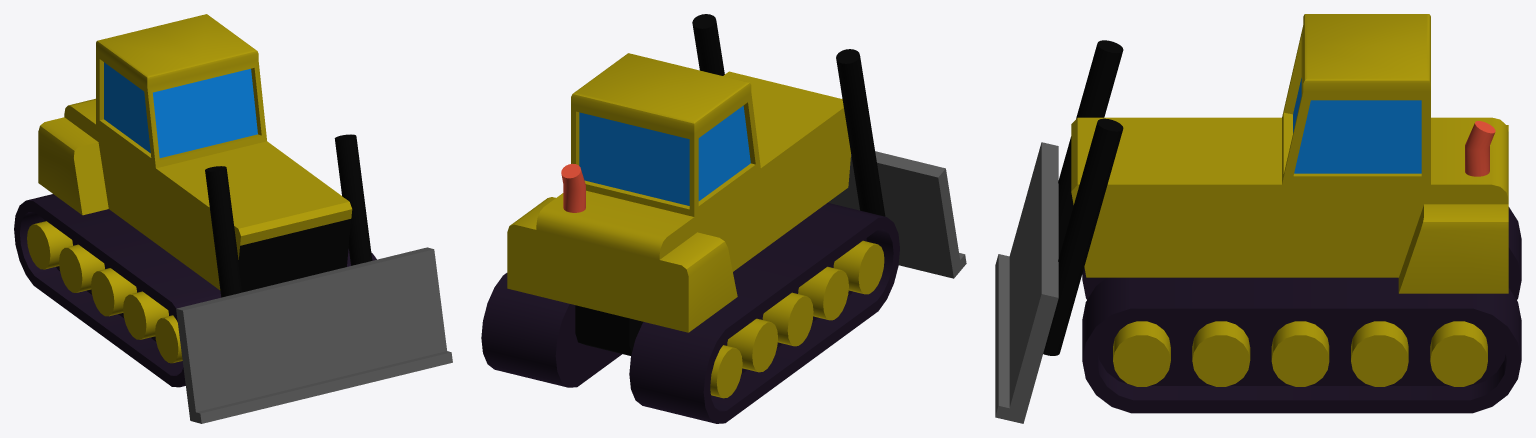
File: bulldozer.fbx
3 views of the same model, side by side, from view 1: azimuth 30°, elevation 25°; view 2: azimuth 150°, elevation 25°; view 3: azimuth 270°, elevation 25° (orthographic). The views are drawn at different scales.
Visible parts, largest first — view 1: body, knife, r track, gidro r, gidro l; view 2: body, r track, l track.005, knife, gidro r, base, gidro l, Pipe; view 3: body, l track.005, knife, gidro l, gidro r, r track, Pipe.
Boxes of the visible parts, bbox=[...] form: body: bbox=[38, 14, 352, 292]; knife: bbox=[176, 247, 452, 423]; r track: bbox=[14, 194, 221, 387]; gidro r: bbox=[205, 166, 242, 297]; gidro l: bbox=[334, 134, 372, 265]; body: bbox=[507, 53, 850, 332]; r track: bbox=[629, 202, 899, 423]; l track.005: bbox=[481, 273, 622, 387]; knife: bbox=[828, 151, 966, 278]; gidro r: bbox=[836, 49, 885, 216]; base: bbox=[575, 305, 643, 355]; gidro l: bbox=[692, 14, 724, 75]; Pipe: bbox=[561, 163, 585, 212]; body: bbox=[1071, 14, 1508, 293]; l track.005: bbox=[1082, 277, 1521, 413]; knife: bbox=[995, 142, 1058, 423]; gidro l: bbox=[1043, 118, 1123, 355]; gidro r: bbox=[1058, 40, 1123, 257]; r track: bbox=[1082, 207, 1521, 299]; Pipe: bbox=[1465, 121, 1495, 176].
Size of the model in its own units: 350 by 329 by 513.
